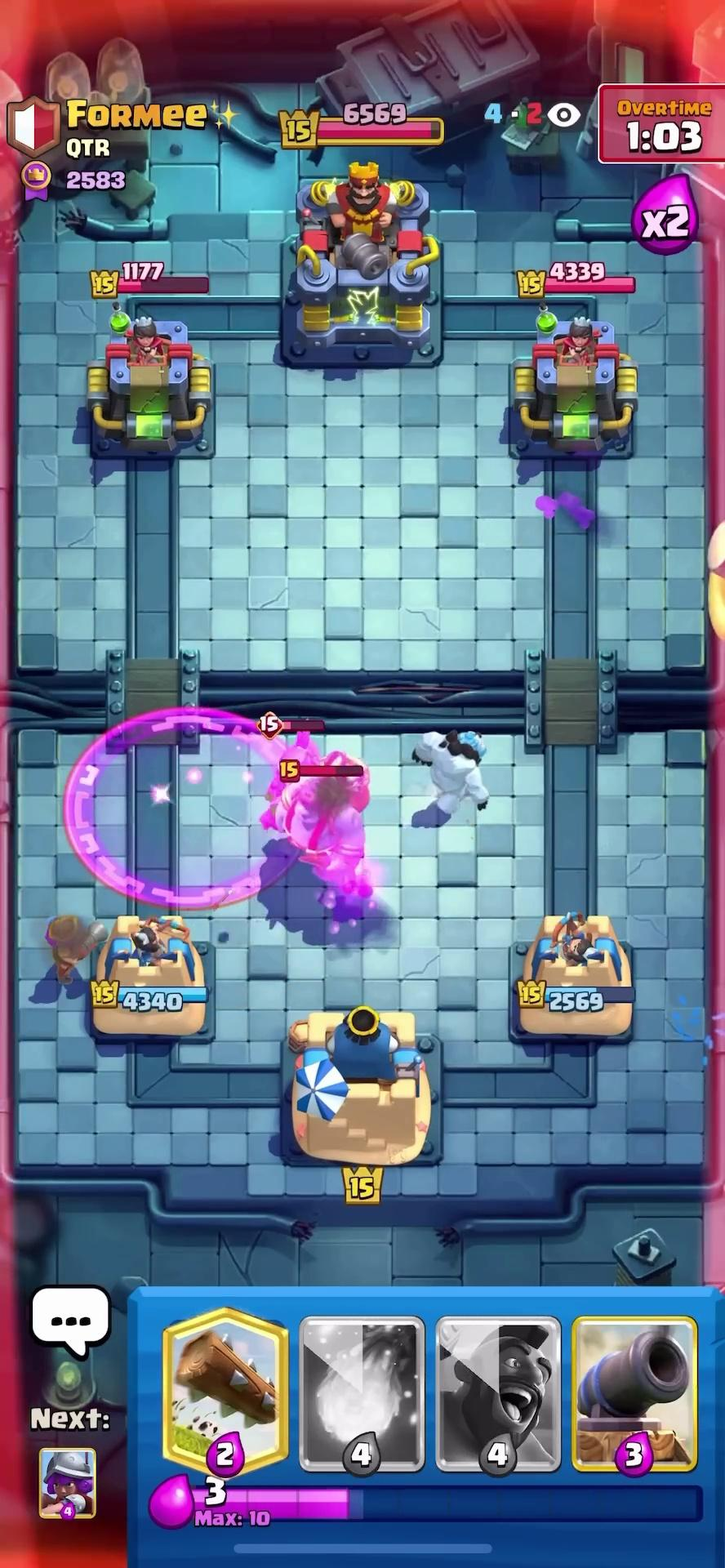ice_golem: (408, 706, 508, 827)
musketeer: (35, 902, 102, 988)
